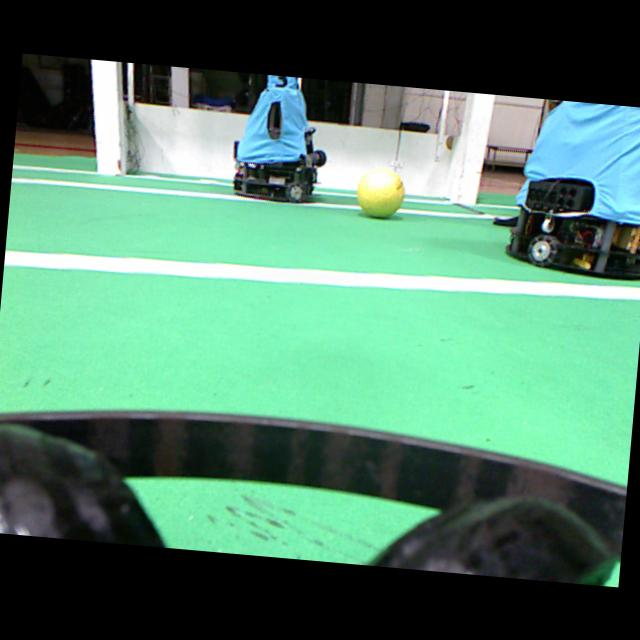ball: (356, 167, 403, 216)
goal: (456, 92, 493, 204), (90, 59, 119, 174)
